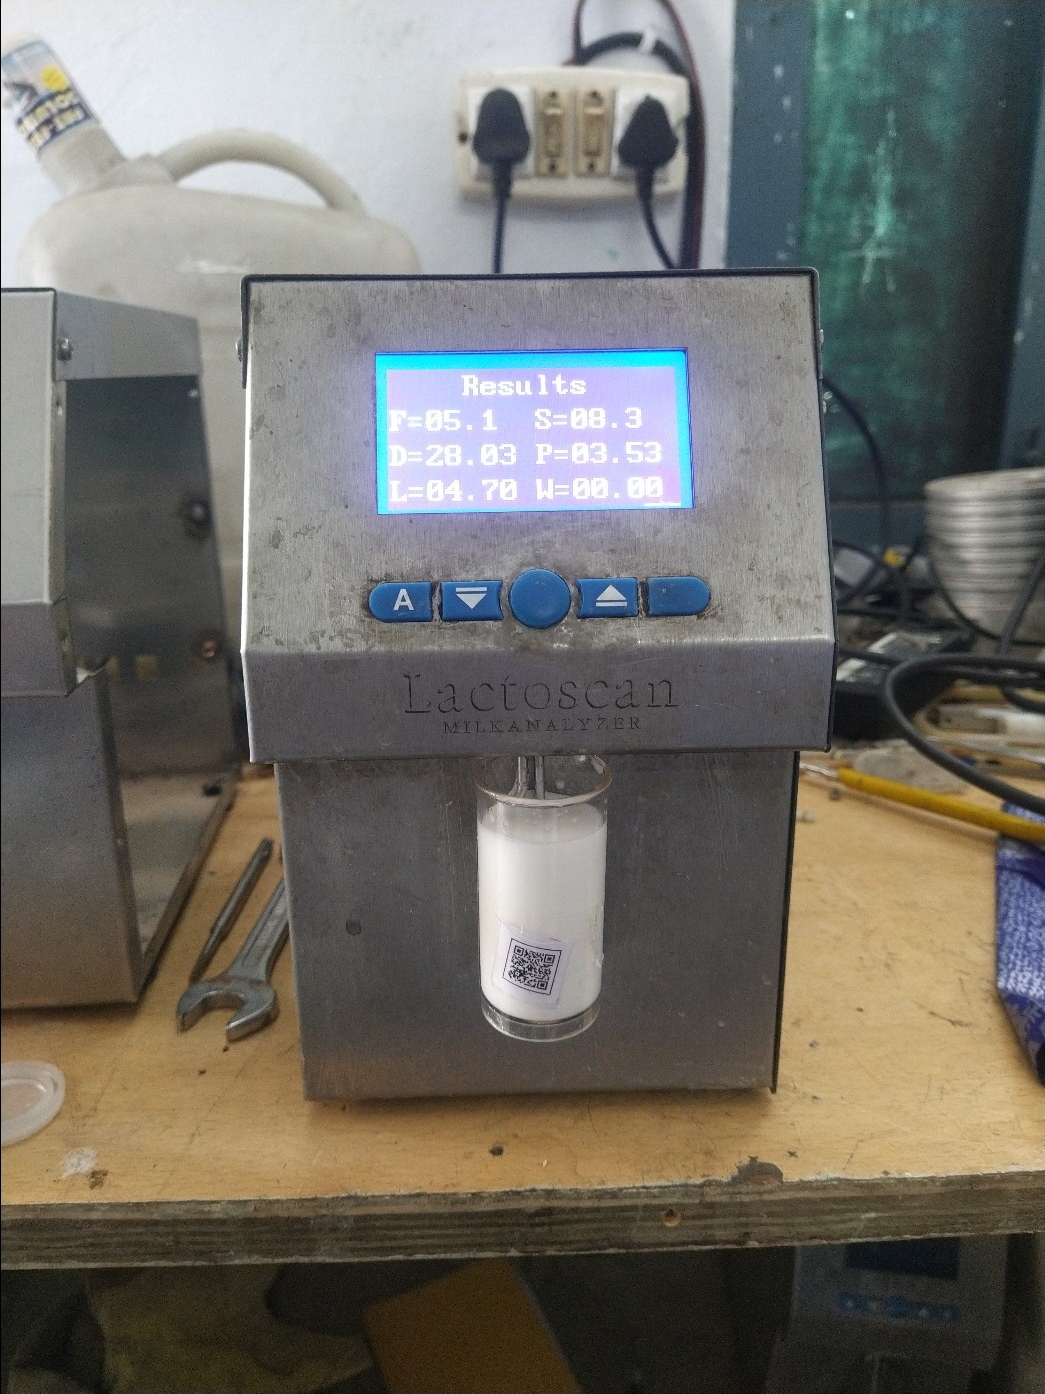lcd: (374, 349, 700, 518)
qr: (504, 932, 564, 1001)
